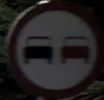No overtake: (3, 10, 94, 86)
